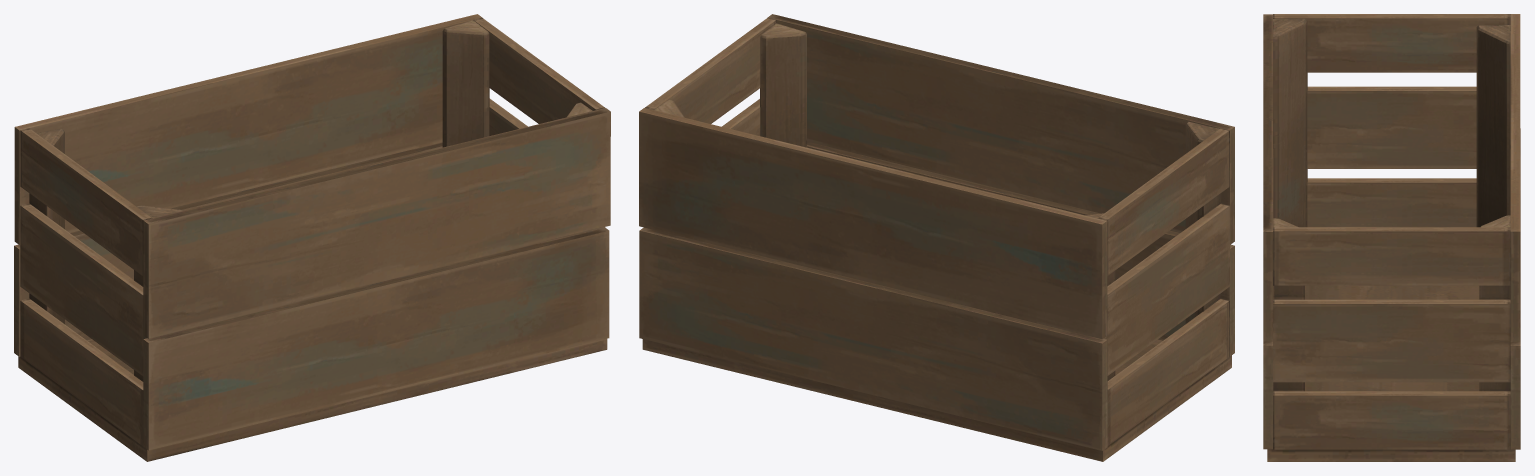
The model's file is Crate.glb.
3 renders of one model, left to right at view 1: azimuth 30°, elevation 25°; view 2: azimuth 150°, elevation 25°; view 3: azimuth 270°, elevation 25°, orthographic. The views are drawn at different scales.
Visible parts, largest first — view 1: Crate_0_Wood_LOD0; view 2: Crate_0_Wood_LOD0; view 3: Crate_0_Wood_LOD0.
Part boxes in pixels (<box>): Crate_0_Wood_LOD0: <box>14,14,610,461</box>; Crate_0_Wood_LOD0: <box>639,14,1234,461</box>; Crate_0_Wood_LOD0: <box>1263,14,1520,461</box>.
Bounding box in the file's own units: 1 × 0.4956 × 0.5005.
Materials: 1 (1 with a texture image).
